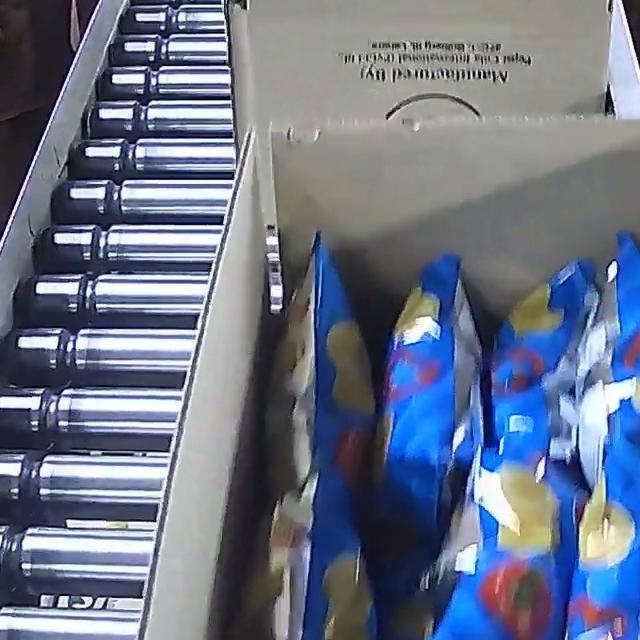paprika: (245, 226, 640, 640)
